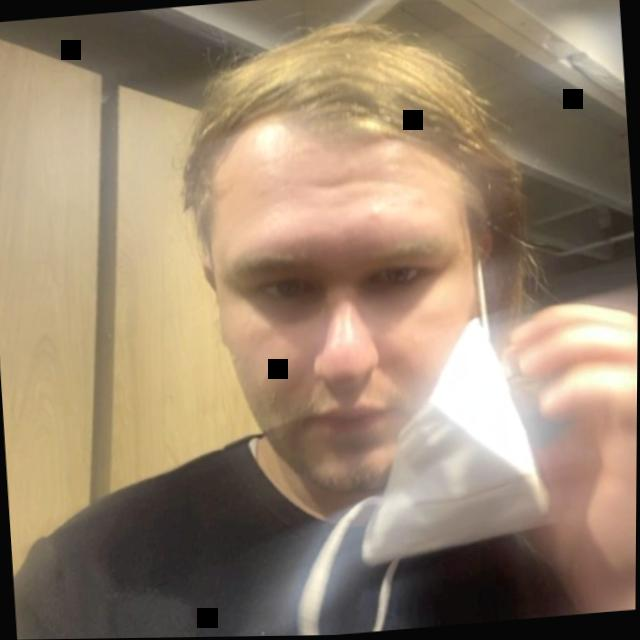NO-Mask: (145, 18, 533, 563)
